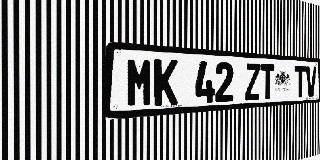2: (215, 62, 233, 102)
4: (195, 61, 215, 103)
K: (154, 59, 178, 106)
M: (126, 57, 153, 108)
T: (260, 64, 274, 100), (294, 65, 306, 97)
V: (306, 66, 316, 97)
Z: (245, 63, 260, 100)
